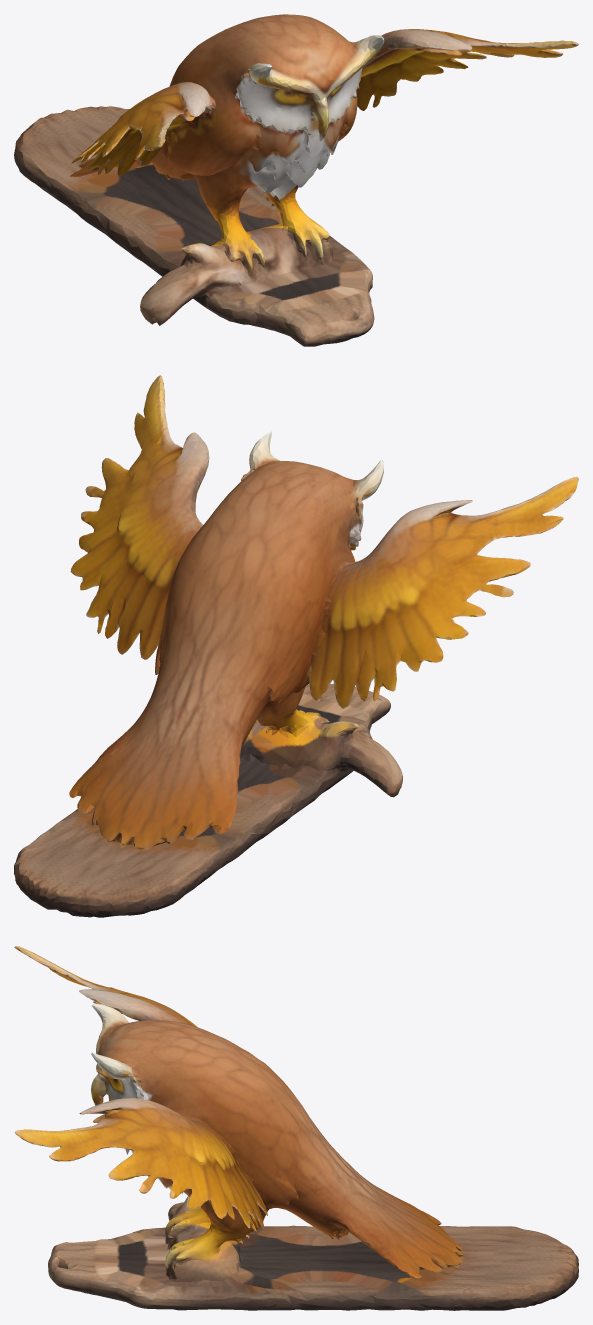
File: forest_owl.glb
3 renders of one model, top to bottom at view 1: azimuth 30°, elevation 25°; view 2: azimuth 150°, elevation 25°; view 3: azimuth 270°, elevation 25°, orthographic. The views are drawn at different scales.
Visible parts, largest first — view 1: forest_owl; view 2: forest_owl; view 3: forest_owl.
Boxes of the visible parts, bbox=[...] form: forest_owl: bbox=[14, 14, 578, 346]; forest_owl: bbox=[14, 375, 578, 917]; forest_owl: bbox=[14, 946, 578, 1310].
Size of the model in its own units: 1.51 by 0.9478 by 1.89.
1 material, 1 textured.
